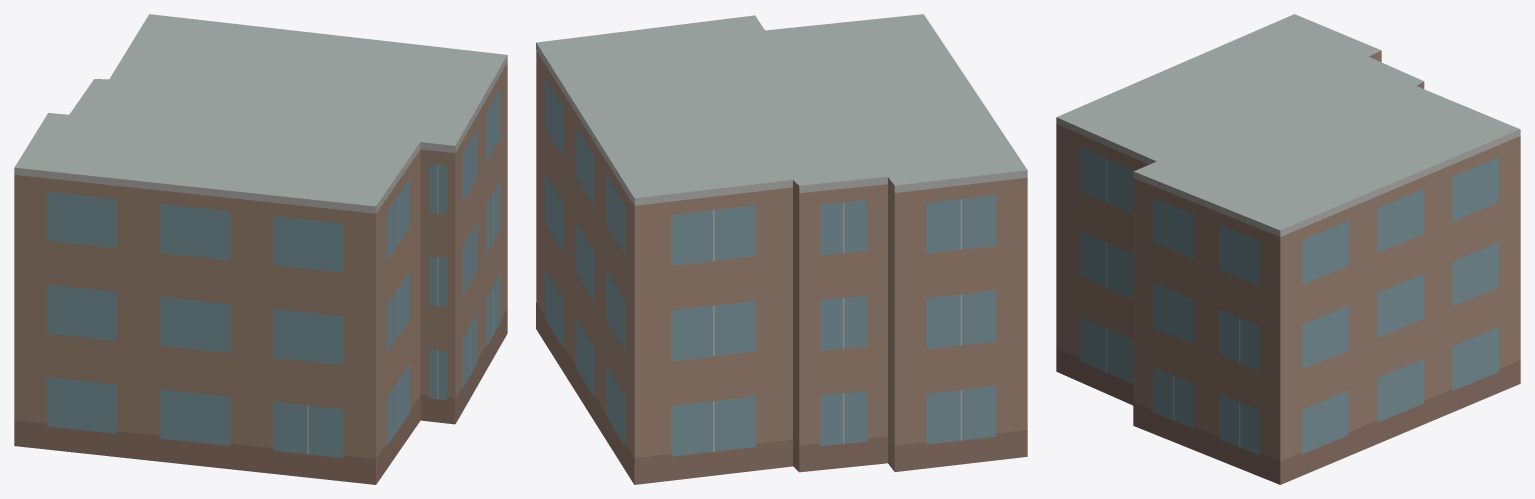
The model's file is survey-upis-32533788.glb.
The picture shows the model from 3 angles, left to right: view 1: azimuth 30°, elevation 25°; view 2: azimuth 150°, elevation 25°; view 3: azimuth 270°, elevation 25°; orthographic projection. The views are drawn at different scales.
Visible parts, largest first — view 1: survey-upis-32533788.tmp; view 2: survey-upis-32533788.tmp; view 3: survey-upis-32533788.tmp.
Part boxes in pixels (<box>): survey-upis-32533788.tmp: <box>14,14,507,484</box>; survey-upis-32533788.tmp: <box>536,14,1027,484</box>; survey-upis-32533788.tmp: <box>1056,14,1520,484</box>.
Size of the model in its own units: 17.2 by 9.42 by 15.58.
